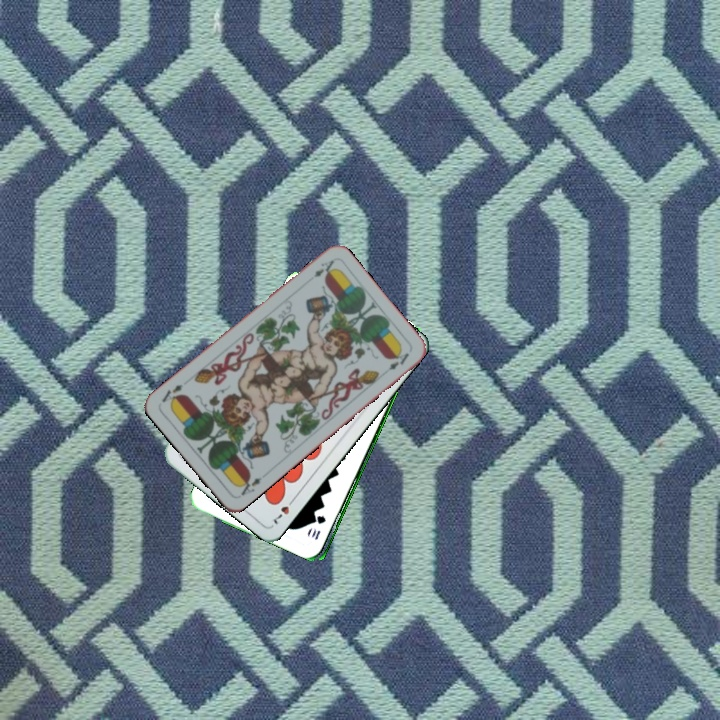EA: (234, 472, 264, 498), (309, 256, 337, 280)
G10: (307, 512, 329, 542)
H7: (269, 493, 298, 527)
